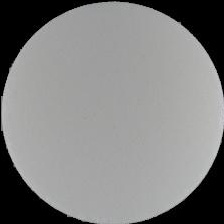69189-0182: (0, 0, 224, 224)
